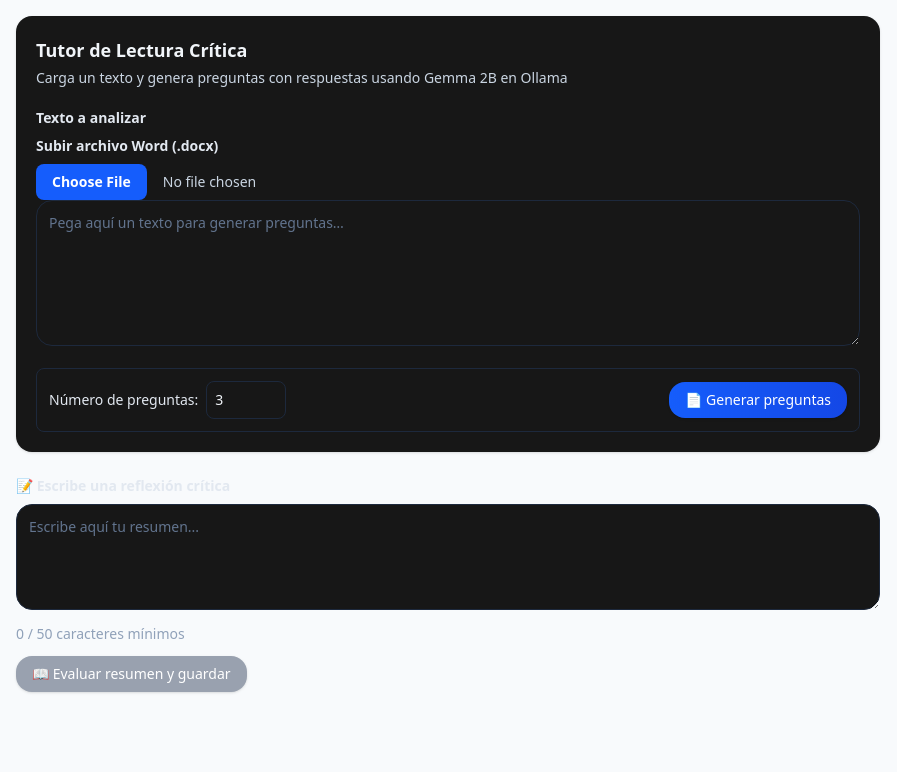
it: ✅ Tutor Page - cobertura completa de flujos y errores › 3) Error de /api/generate-qa muestra alerta de error
Type "Texto base para intentar generar." into the text box with placeholder "Pega aquí un texto para generar preguntas…" at {"x": 448, "y": 273}, box [36,200,860,346]
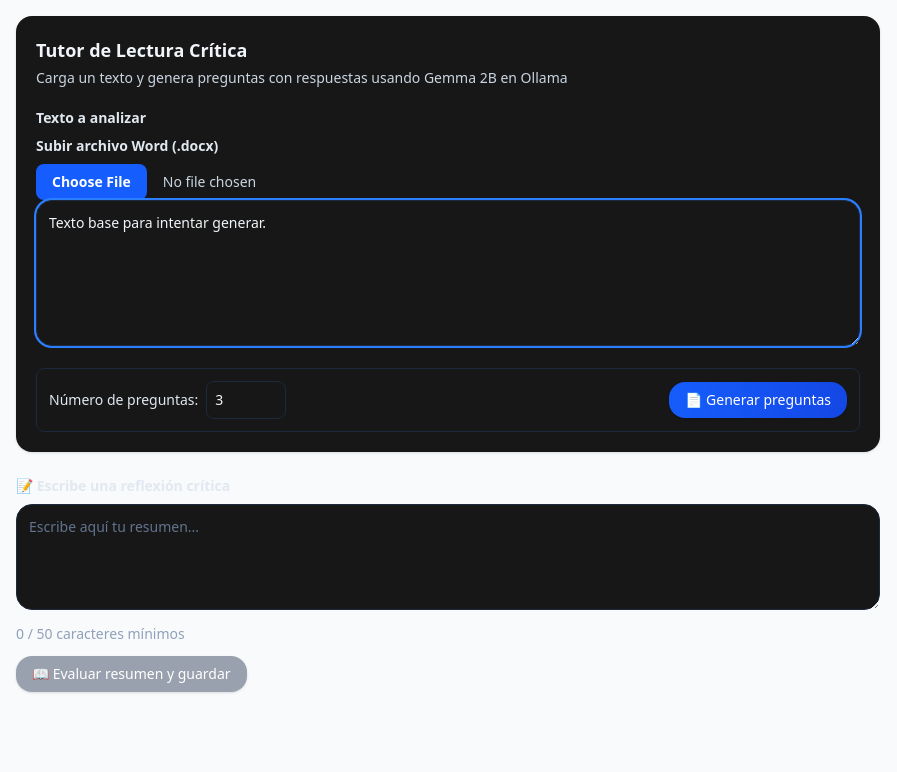
Click the button "📄 Generar preguntas" at {"x": 758, "y": 400}, box [669,382,847,418]
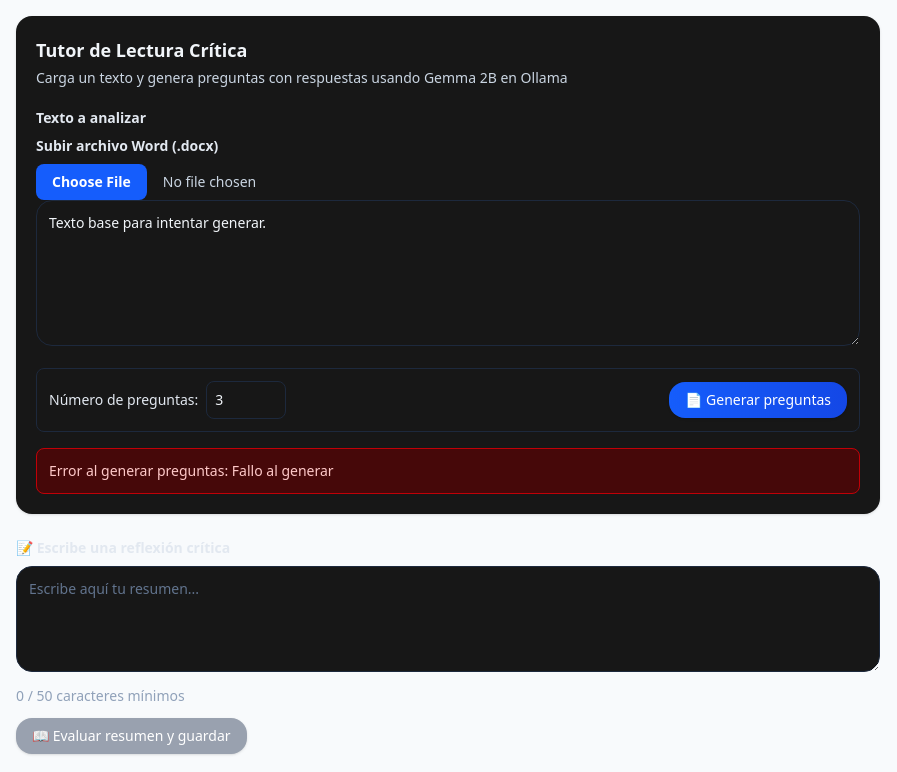
Now the text "Error al generar preguntas: Fallo al generar" is shown, box [49,461,334,480]
